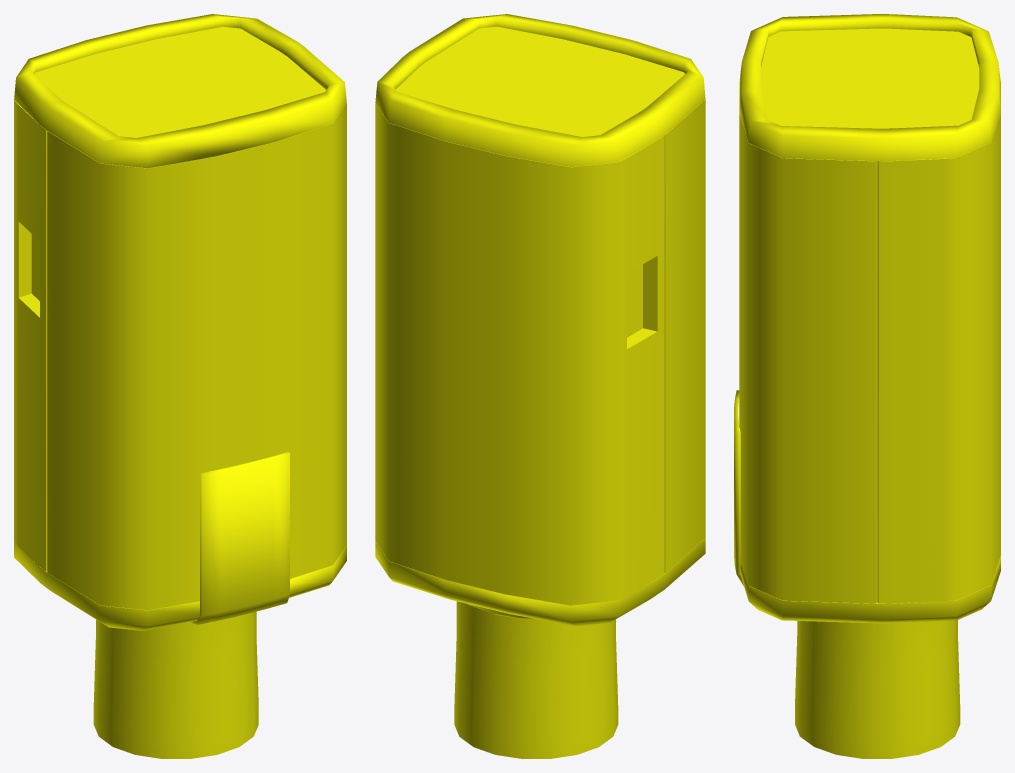
File: sm_hana_cctv_bullet_camera_790_lod02.glb
3 renders of one model, left to right at view 1: azimuth 30°, elevation 25°; view 2: azimuth 150°, elevation 25°; view 3: azimuth 270°, elevation 25°, orthographic.
Parts seen in each view (by area): view 1: sm_hana_cctv_bullet_camera_790_lod02; view 2: sm_hana_cctv_bullet_camera_790_lod02; view 3: sm_hana_cctv_bullet_camera_790_lod02.
Boxes of the visible parts, x1=… form: sm_hana_cctv_bullet_camera_790_lod02: x1=14, y1=14, x2=346, y2=758; sm_hana_cctv_bullet_camera_790_lod02: x1=375, y1=14, x2=705, y2=758; sm_hana_cctv_bullet_camera_790_lod02: x1=734, y1=14, x2=1000, y2=758.
Bounding box in the file's own units: 0.4854 × 1.19 × 0.4324.
2 materials, 1 textured.
